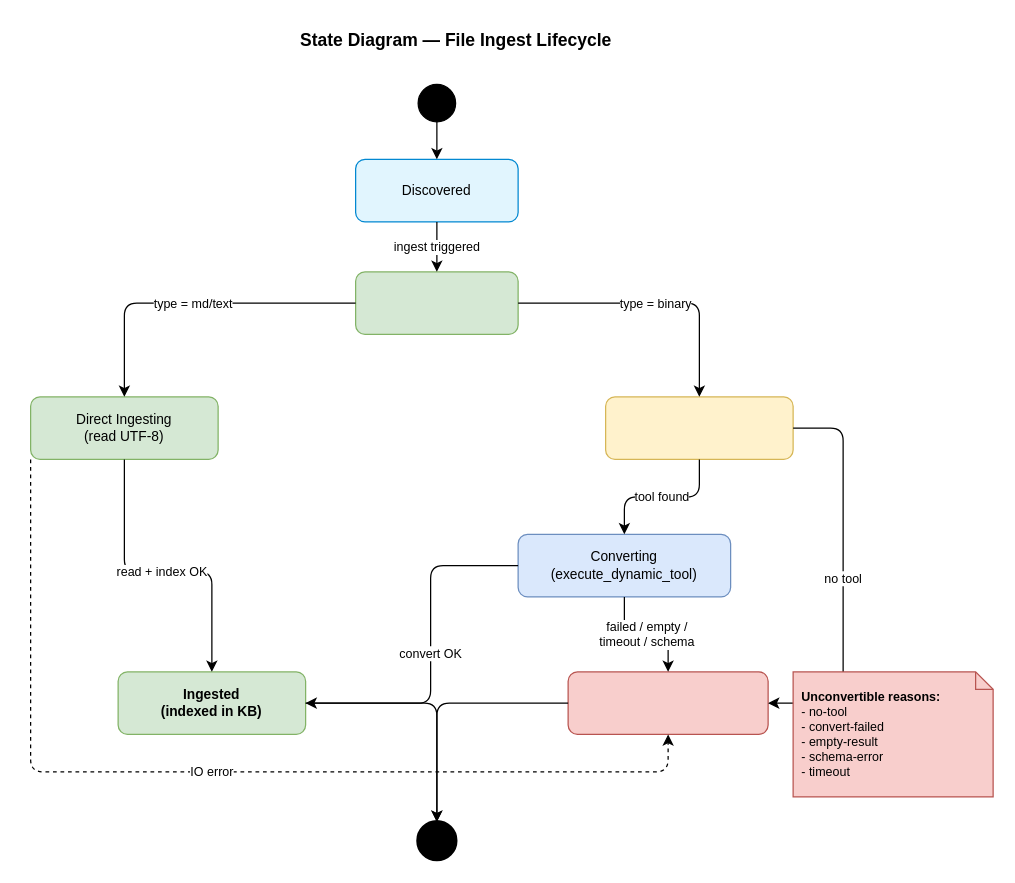
Some shapes in this 1015 by 883 pixel diagram are drawn without their labels. Here are the shapes that lost their labels. From the top down, the centre of each, then its label:
pixel 436 302: Classifying
pixel 698 427: Resolving Tool (find_tools)
pixel 667 702: Unconvertible (not indexed)
